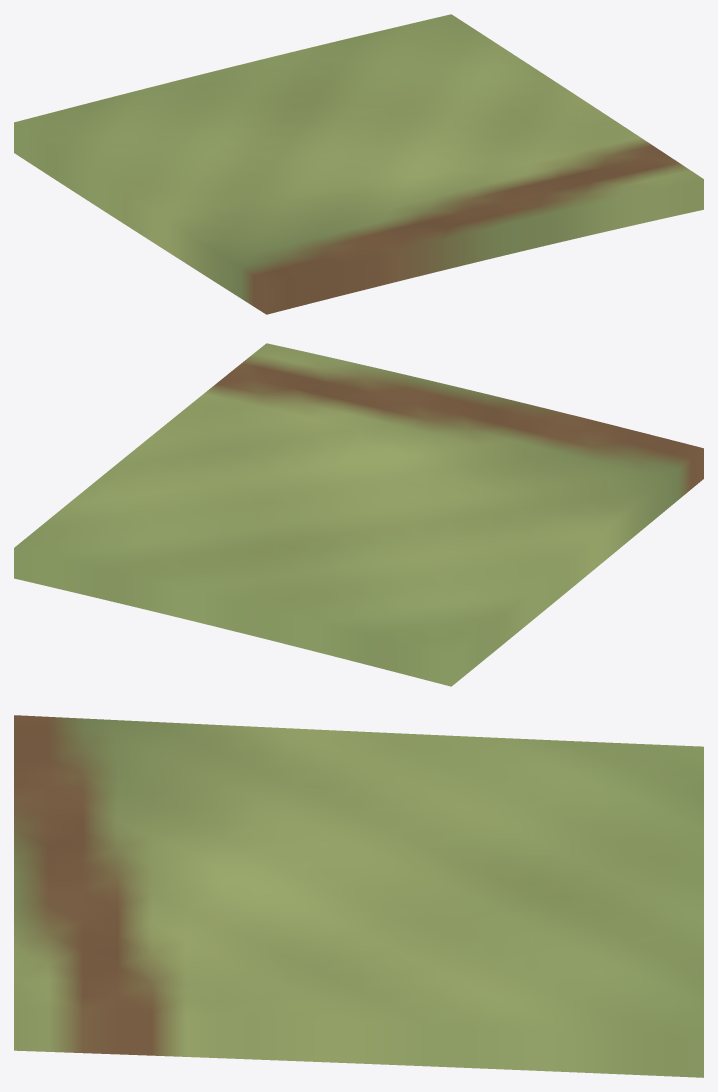
3 views of the same model, one above another, from view 1: azimuth 30°, elevation 25°; view 2: azimuth 150°, elevation 25°; view 3: azimuth 270°, elevation 25° (orthographic). The views are drawn at different scales.
Visible parts, largest first — view 1: terrain; view 2: terrain; view 3: terrain.
Boxes of the visible parts, x1=… form: terrain: x1=14, y1=14, x2=703, y2=314; terrain: x1=14, y1=343, x2=703, y2=686; terrain: x1=14, y1=715, x2=703, y2=1077.
Size of the model in its own units: 30 by 3.59 by 30.
